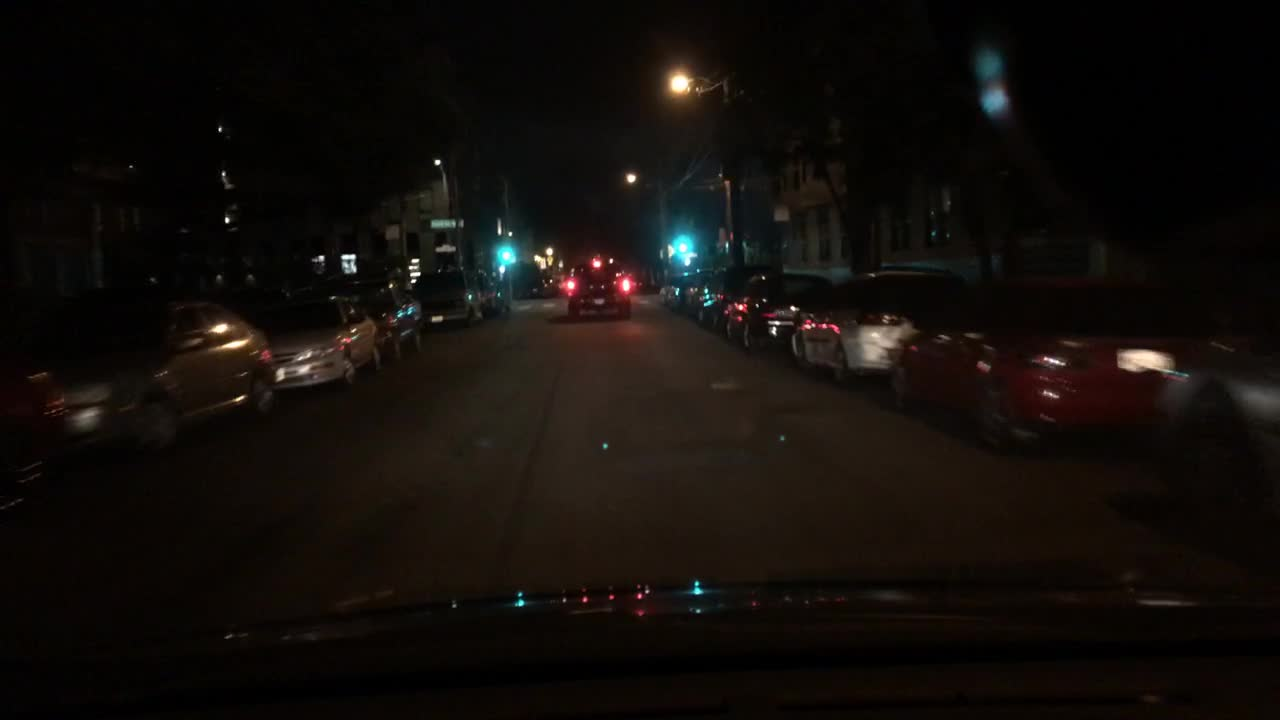car: (885, 264, 1225, 449), (46, 296, 277, 456), (1158, 320, 1276, 564), (788, 265, 967, 383), (244, 291, 387, 390), (1, 341, 67, 512), (322, 271, 425, 363), (719, 270, 833, 353), (696, 259, 778, 329), (567, 255, 635, 322), (413, 266, 488, 325), (470, 266, 514, 318), (678, 265, 716, 313), (508, 261, 555, 297), (657, 268, 688, 310)
traffic light: (499, 239, 510, 260), (679, 234, 688, 252)
traffic sign: (431, 216, 461, 229), (543, 252, 550, 265)
